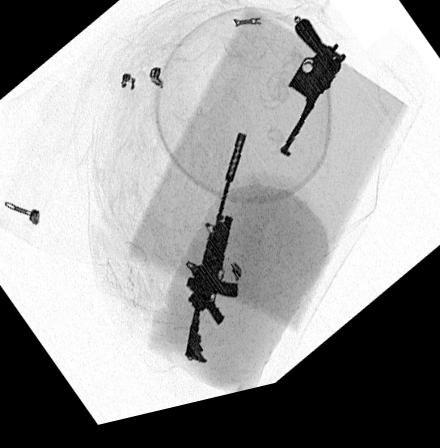Gun: (184, 144, 245, 373), (278, 33, 346, 171)
